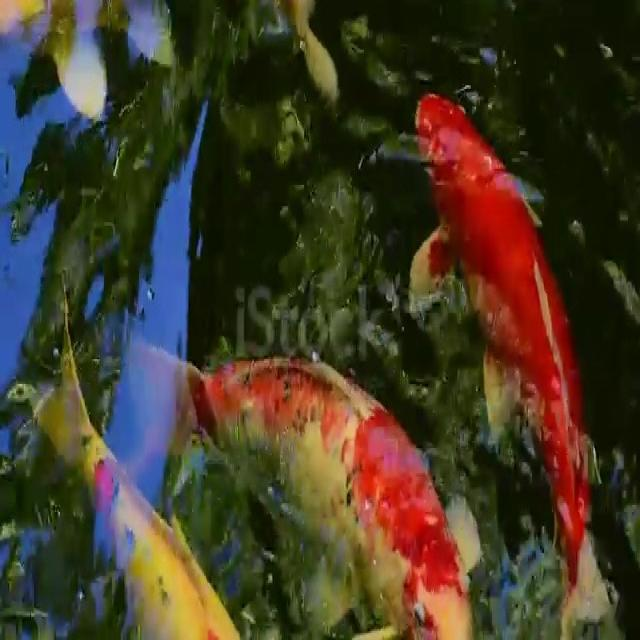fish: (405, 75, 619, 638), (149, 332, 476, 640), (13, 322, 244, 640)
